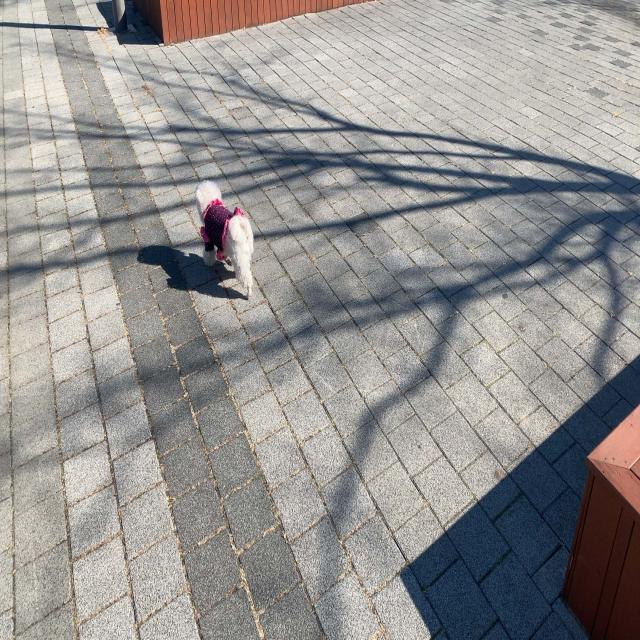Dog: (195, 177, 254, 301)
